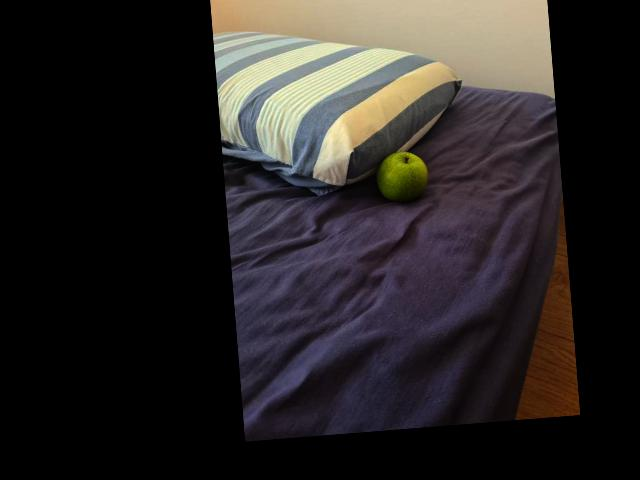apple: (375, 149, 426, 202)
